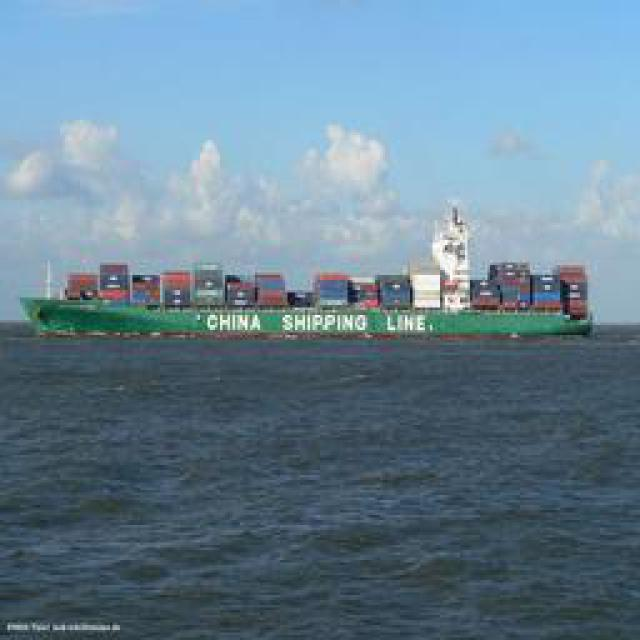Ship: (30, 257, 593, 340)
